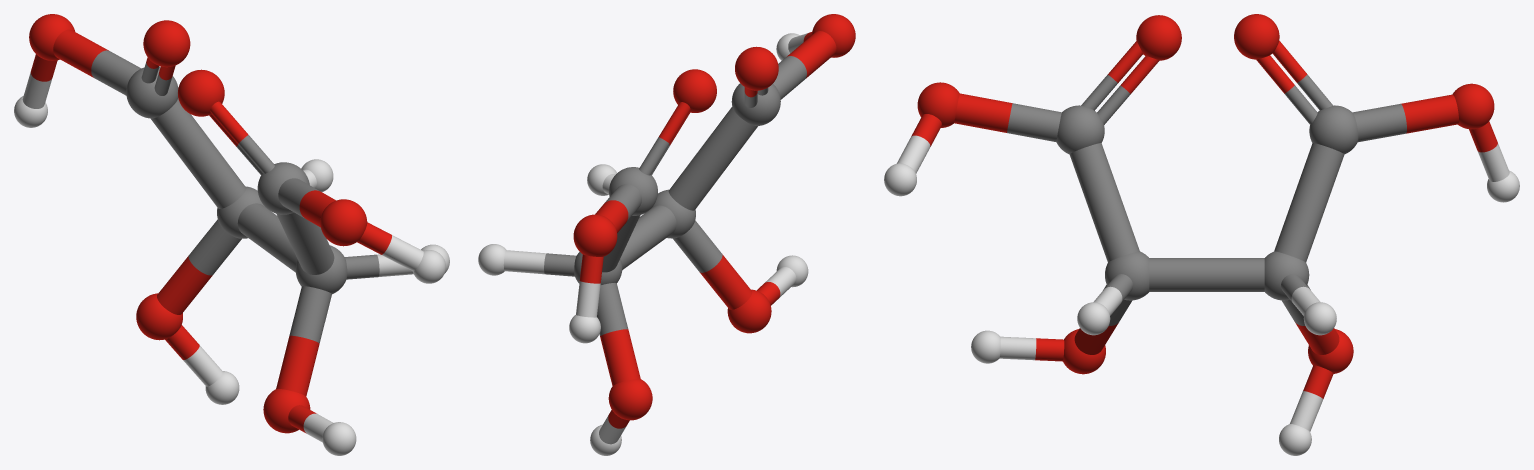
Rendered from RSTARTARICACID.MOL2.glb.
3 renders of one model, left to right at view 1: azimuth 30°, elevation 25°; view 2: azimuth 150°, elevation 25°; view 3: azimuth 270°, elevation 25°, orthographic. The views are drawn at different scales.
Bounding box in the file's own units: 2.61 × 4.43 × 6.35.
